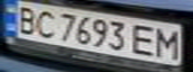3: (106, 19, 130, 53)
6: (72, 15, 93, 46)
7: (54, 11, 78, 43)
9: (90, 16, 112, 50)
B: (9, 2, 42, 35)
C: (30, 7, 57, 38)
E: (127, 23, 160, 57)
M: (151, 26, 184, 60)
